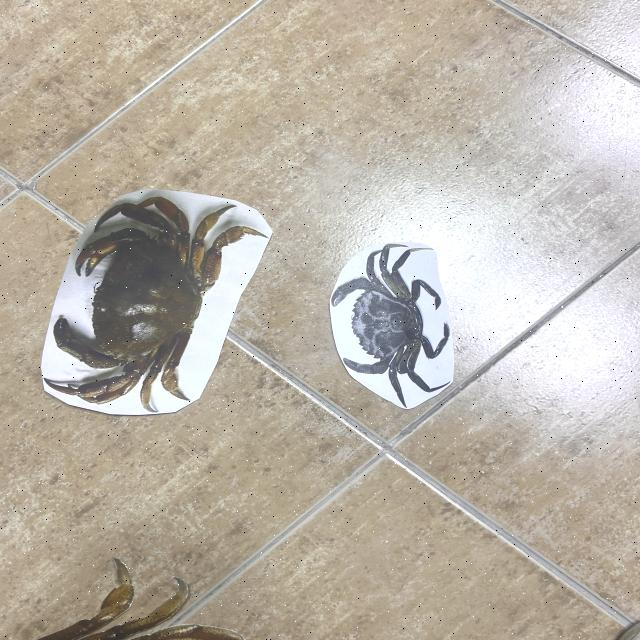European_Green_Crab: (322, 239, 463, 414)
